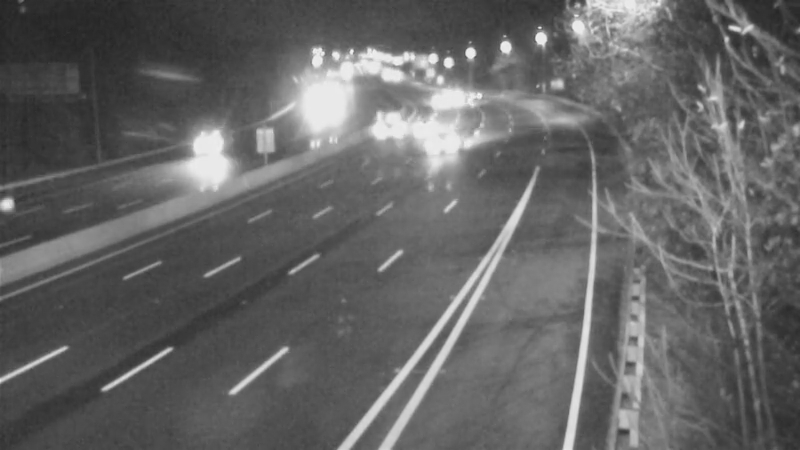vehicle: (449, 67, 499, 117), (419, 76, 469, 126), (430, 80, 480, 130), (396, 104, 446, 154), (355, 99, 405, 149), (423, 117, 473, 167), (182, 115, 232, 165)
